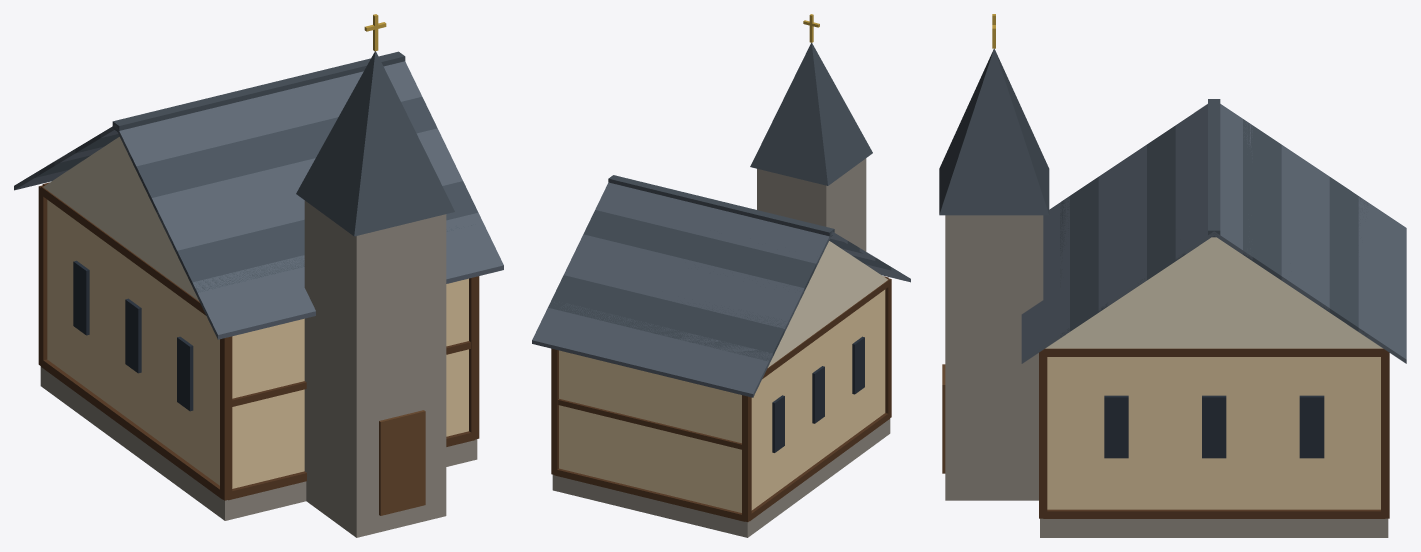
File: chapel.glb
3 renders of one model, left to right at view 1: azimuth 30°, elevation 25°; view 2: azimuth 150°, elevation 25°; view 3: azimuth 270°, elevation 25°, orthographic. The views are drawn at different scales.
Visible parts, largest first — view 1: chapel; view 2: chapel; view 3: chapel.
Part boxes in pixels (x1=…): chapel: x1=14, y1=14, x2=503, y2=537; chapel: x1=532, y1=14, x2=910, y2=537; chapel: x1=939, y1=14, x2=1406, y2=537.
Size of the model in its own units: 5.1 by 8.4 by 7.65.
